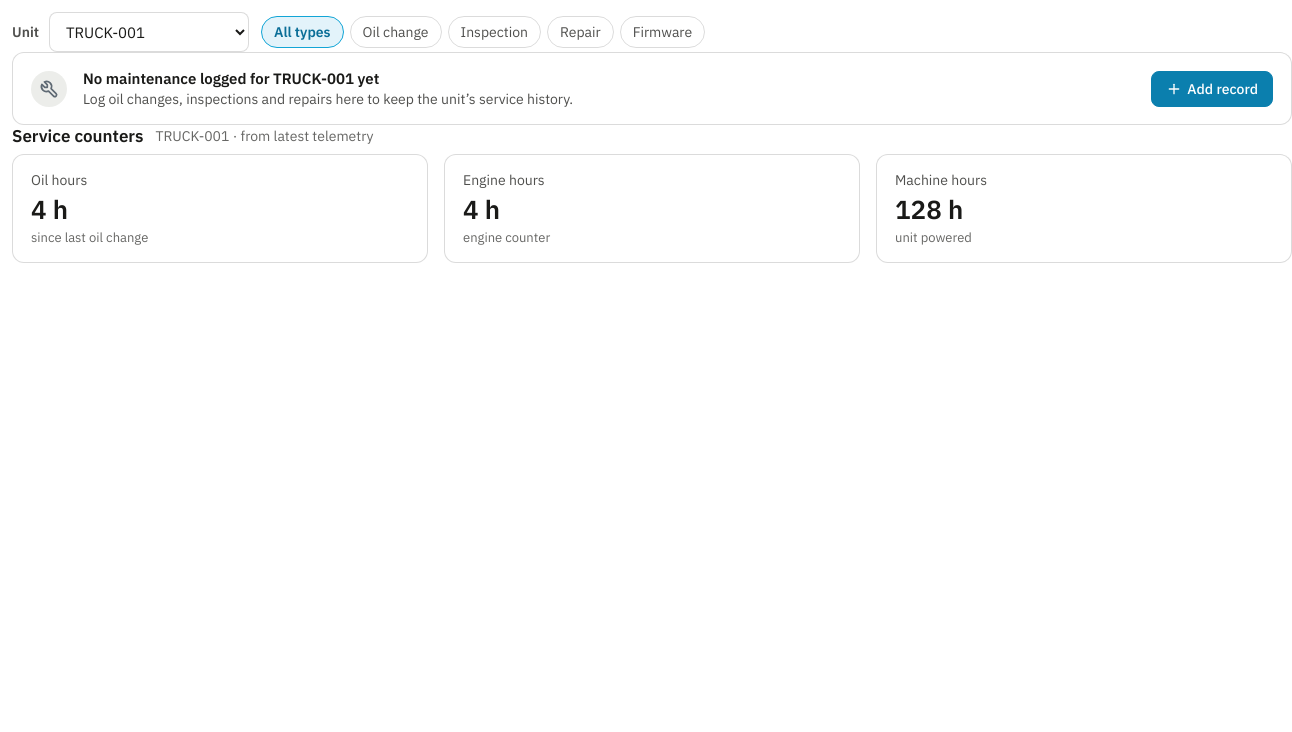
Test case: MaintenancePage › the add form has labelled fields
Expected: the text "No maintenance logged for TRUCK-001 yet" is shown, left=83, top=69, right=379, bottom=88
Click the button "Add record". click: (1212, 88)
box: left=1151, top=70, right=1273, bottom=106
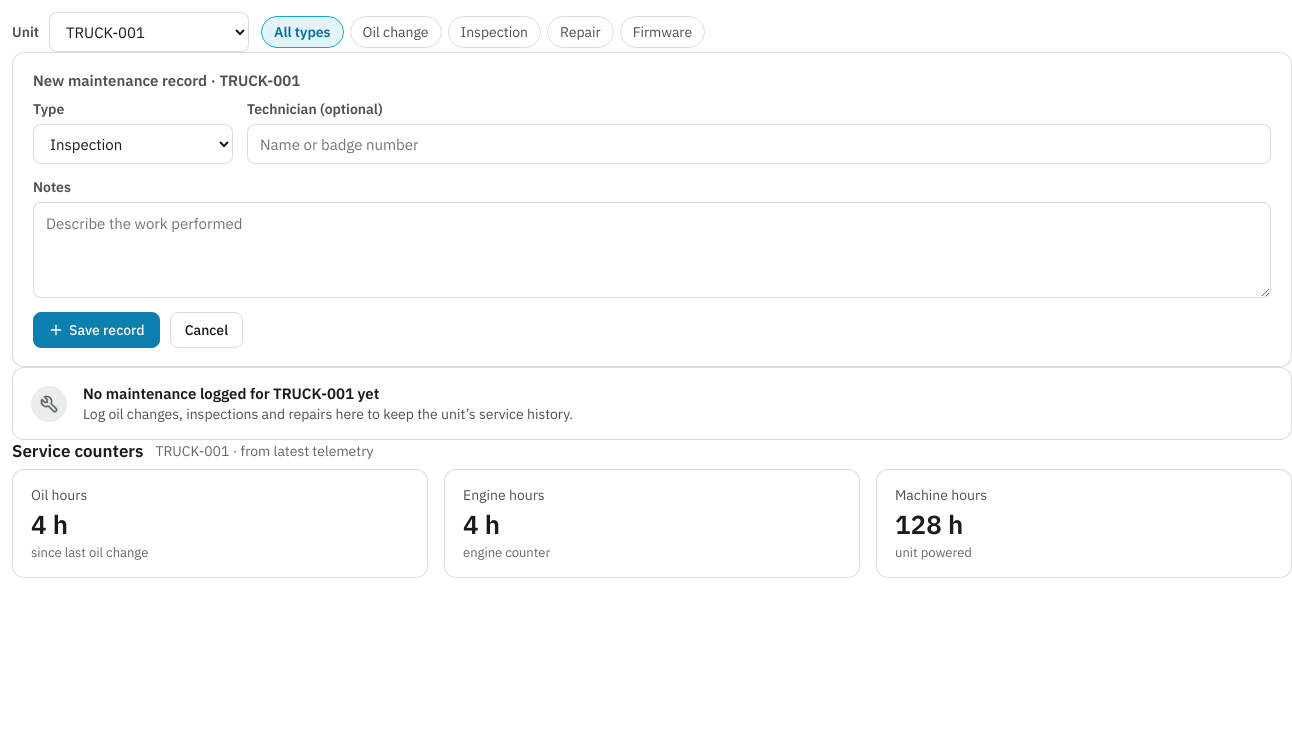
Now the dropdown labelled "Type" is shown, box left=33, top=124, right=233, bottom=164
Now the field labelled "Technician (optional)" is shown, box left=247, top=124, right=1271, bottom=164
Now the text box labelled "Notes" is shown, box left=33, top=202, right=1271, bottom=298
